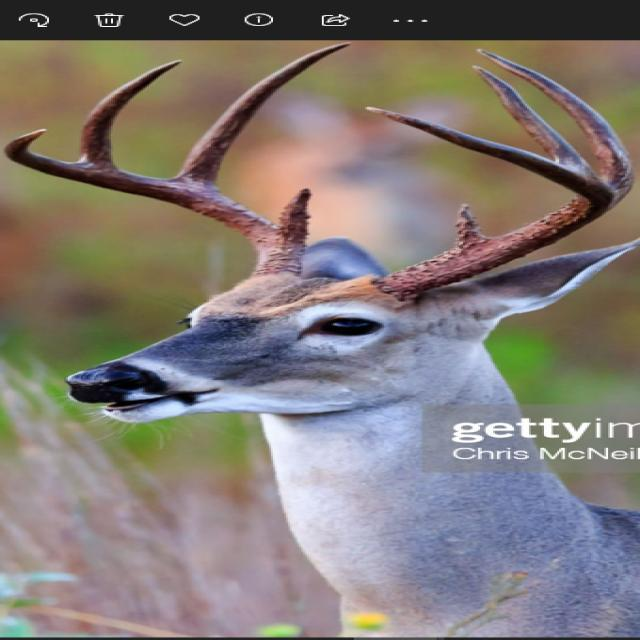L-F: (363, 105, 625, 301)
L-G1: (451, 201, 488, 248)
L-G2: (473, 47, 636, 196)
L-G3: (468, 63, 596, 178)
R-F: (3, 128, 308, 278)
R-G1: (277, 186, 314, 240)
R-G2: (169, 41, 355, 193)
R-G3: (77, 59, 185, 170)
